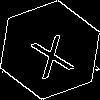X: (25, 25, 75, 80)
